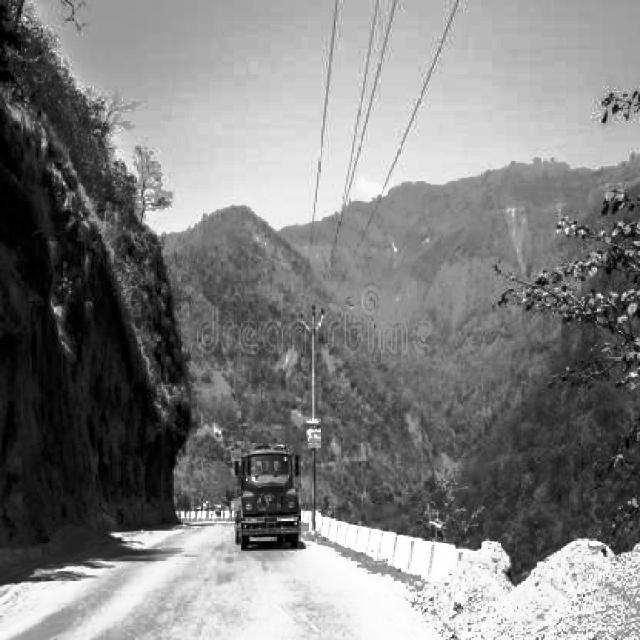HCV: (235, 454, 300, 540)
